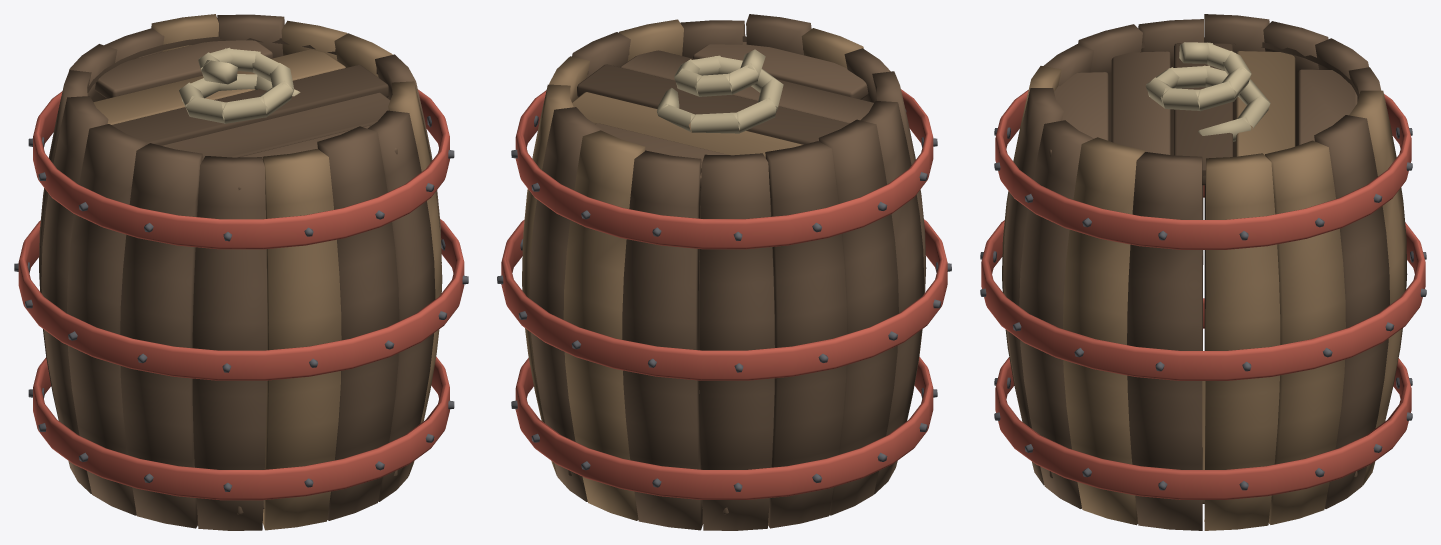
File: keg.24fde908.glb
The picture shows the model from 3 angles, left to right: view 1: azimuth 30°, elevation 25°; view 2: azimuth 150°, elevation 25°; view 3: azimuth 270°, elevation 25°; orthographic projection.
Parts seen in each view (by area): view 1: keg; view 2: keg; view 3: keg.
Part boxes in pixels (x1,y1,x2,y2): keg: (14,14,468,530); keg: (497,14,951,530); keg: (980,14,1426,530).
Bounding box in the file's own units: 0.8805 × 0.8827 × 0.8805.
